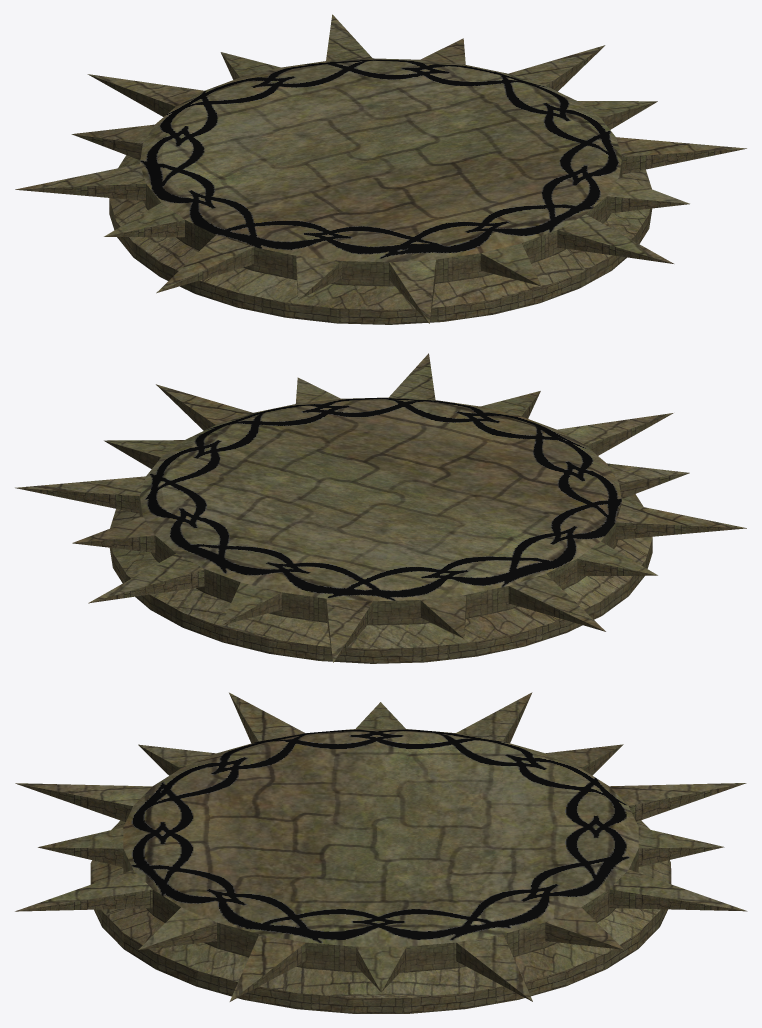
The model's file is Sun_Symbol.fbx.
The picture shows the model from 3 angles, top to bottom: view 1: azimuth 30°, elevation 25°; view 2: azimuth 150°, elevation 25°; view 3: azimuth 270°, elevation 25°; orthographic projection. The views are drawn at different scales.
Parts seen in each view (by area): view 1: Cylinder; view 2: Cylinder; view 3: Cylinder.
Boxes of the visible parts, x1,y1,x2,y2 form: Cylinder: (15,14,746,324); Cylinder: (15,353,746,663); Cylinder: (15,692,747,1013).
Size of the model in its own units: 7.55 by 0.686 by 7.55.
